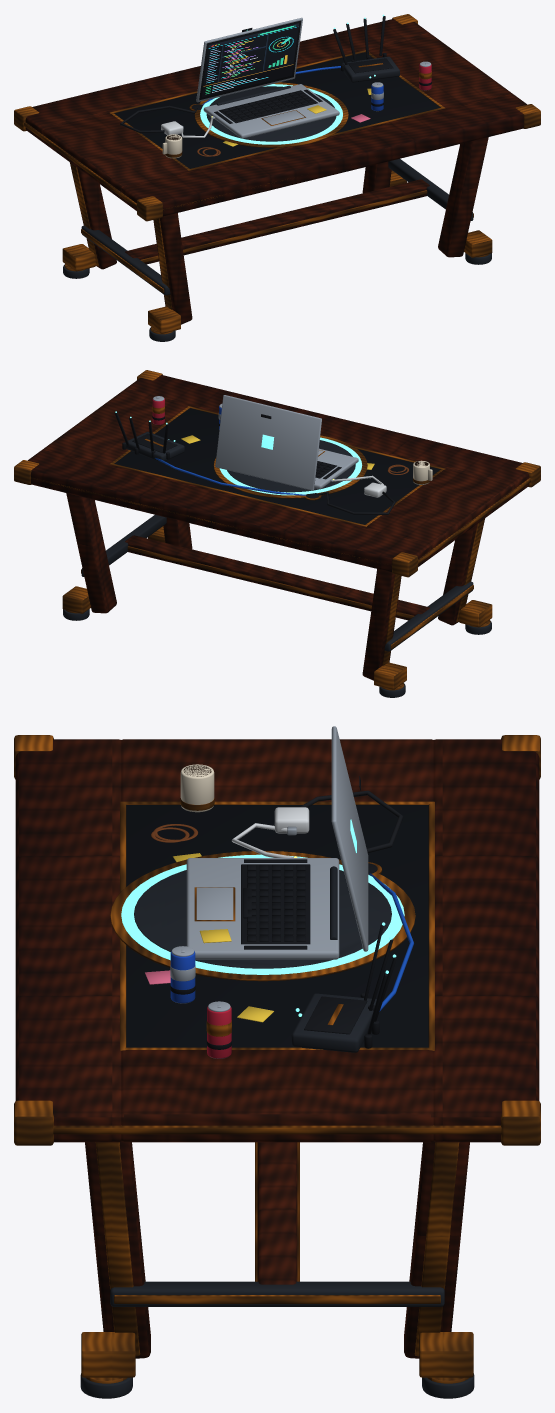
Rendered from prop_macbook_trap_desk.glb.
The picture shows the model from 3 angles, top to bottom: view 1: azimuth 30°, elevation 25°; view 2: azimuth 150°, elevation 25°; view 3: azimuth 270°, elevation 25°; orthographic projection. The views are drawn at different scales.
Visible parts, largest first — view 1: Walnut_Top_FrontRail; view 2: Walnut_Top_FrontRail; view 3: Walnut_Top_FrontRail.
Boxes of the visible parts, box(x1,y1,x2,y2) form: Walnut_Top_FrontRail: box(14, 14, 540, 341); Walnut_Top_FrontRail: box(14, 370, 540, 697); Walnut_Top_FrontRail: box(14, 726, 540, 1398).
Size of the model in its own units: 2.49 by 1.38 by 1.45.
21 materials, 3 textured.
